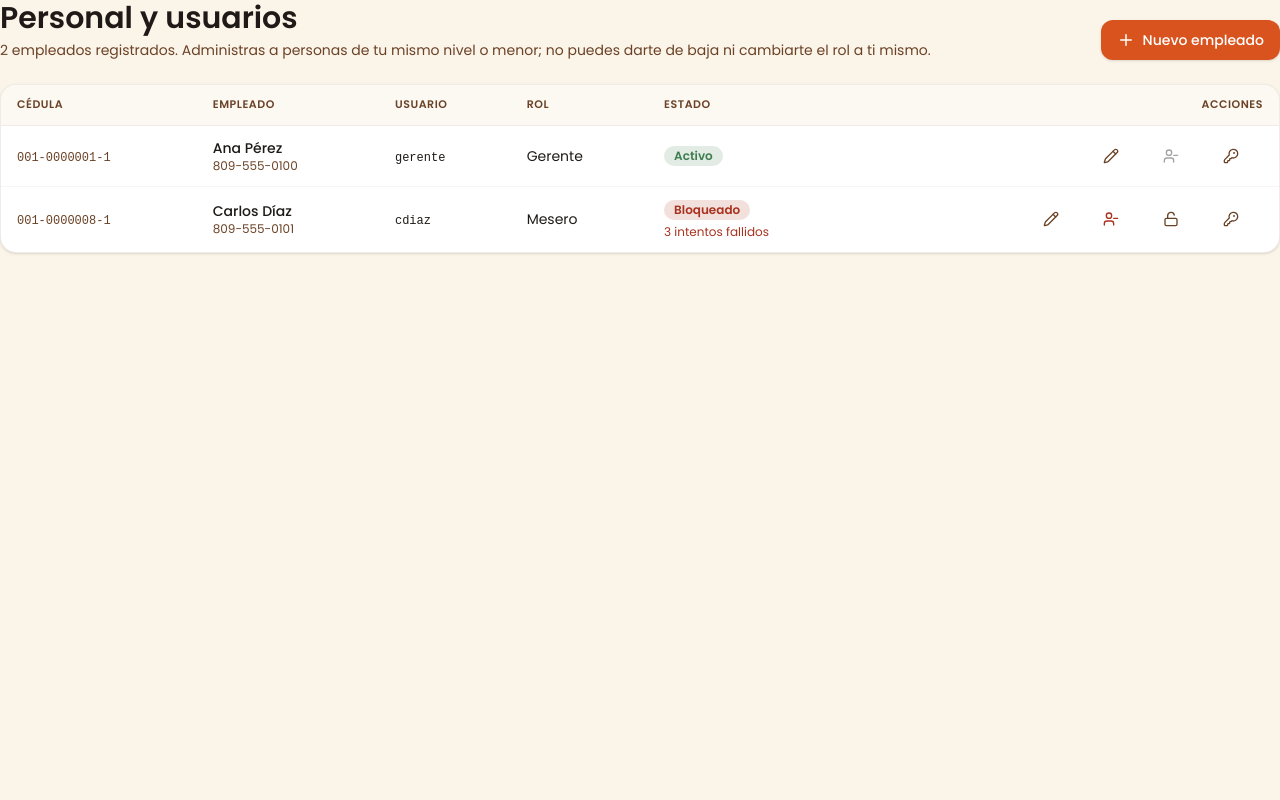
Test: Personal › desbloquea una cuenta bloqueada y limpia los intentos
The image size is (1280, 800).
Expected: the text "3 intentos fallidos" is shown, [664, 223, 769, 240]
Click the button named "Desbloquear la cuenta de Carlos Díaz": {"x": 1175, "y": 219} [1147, 201, 1203, 237]
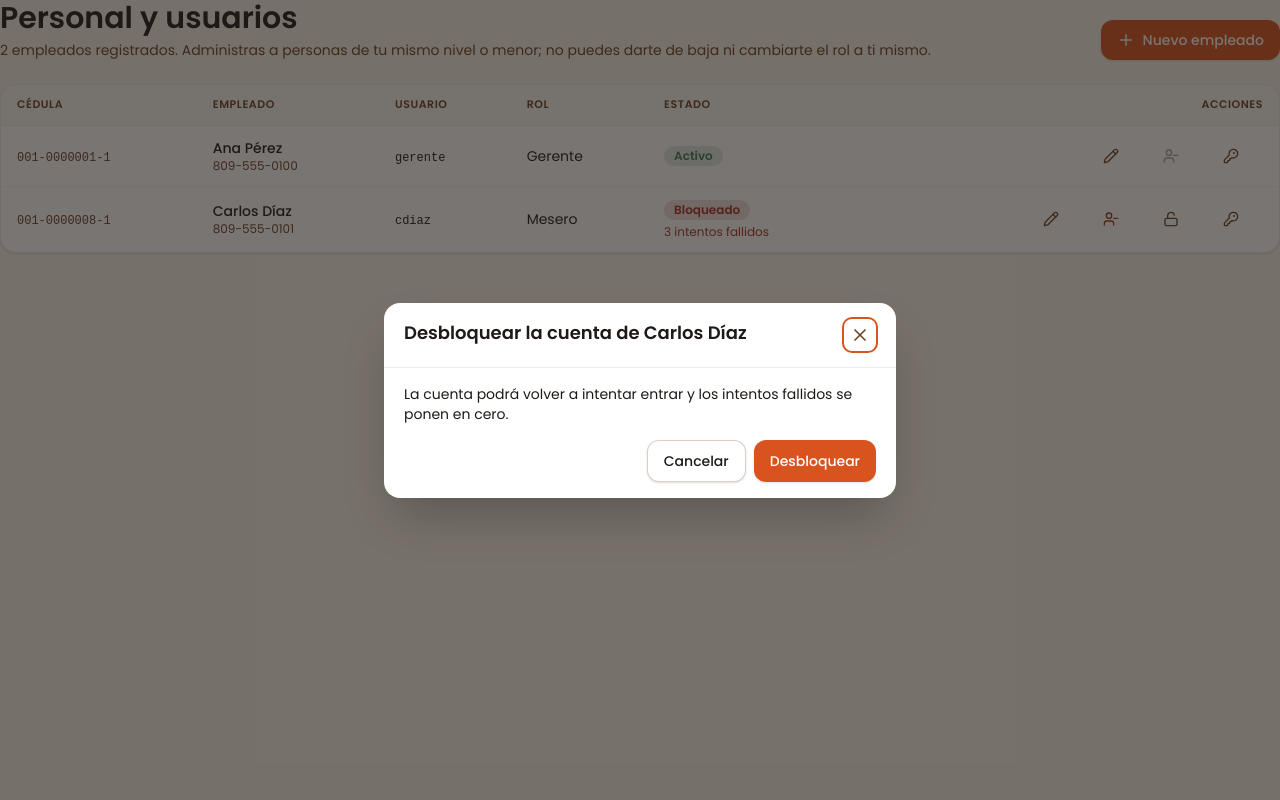
Click the button "Desbloquear": {"x": 815, "y": 460} [754, 440, 876, 482]
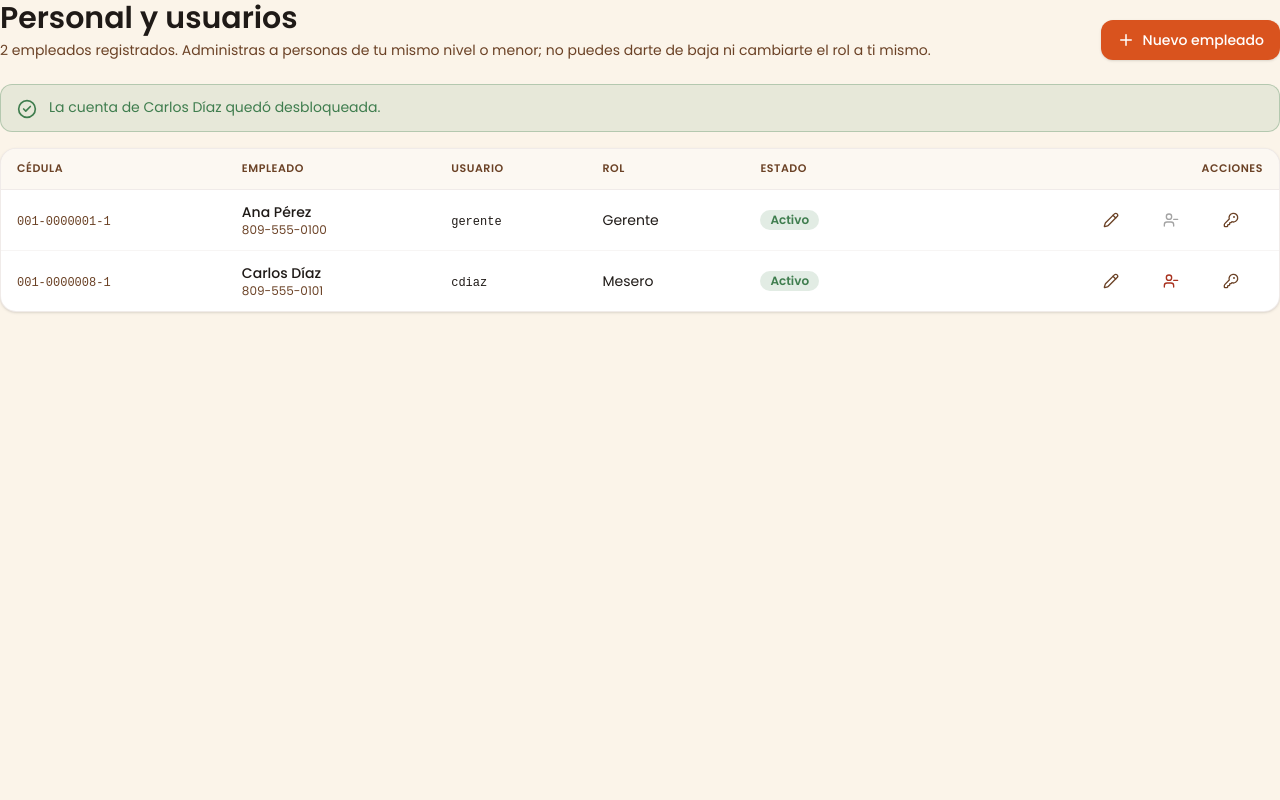
Expected: the text "Activo" is shown 2 times, [760, 210, 819, 230]; [760, 271, 819, 291]
Expected: the text "La cuenta de Carlos Díaz quedó desbloqueada." is shown, [49, 97, 380, 117]
Expected: the text "3 intentos fallidos" is gone
